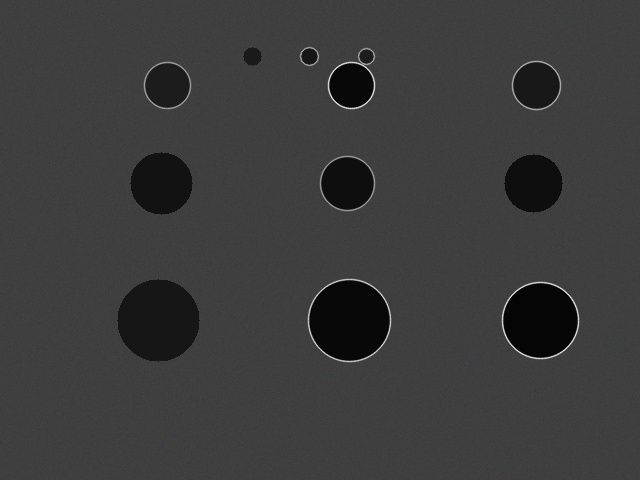hole: (117, 279, 199, 361), (308, 279, 390, 361), (502, 282, 578, 358), (130, 152, 192, 214), (504, 154, 562, 212), (320, 156, 374, 210), (512, 61, 560, 109), (144, 62, 190, 108), (328, 62, 374, 108), (243, 47, 261, 65), (300, 47, 318, 65), (358, 48, 374, 64)
